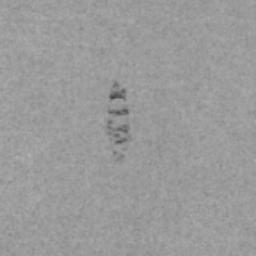Secondary rust skin: (112, 123, 130, 145), (108, 87, 128, 103), (106, 107, 130, 117)
